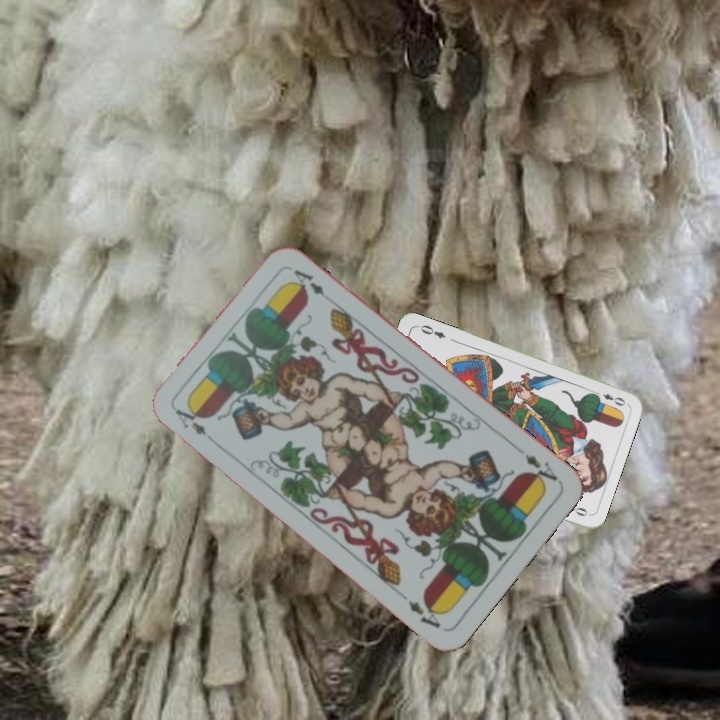EA: (520, 449, 561, 489), (171, 405, 210, 439)
EO: (589, 387, 628, 409)
